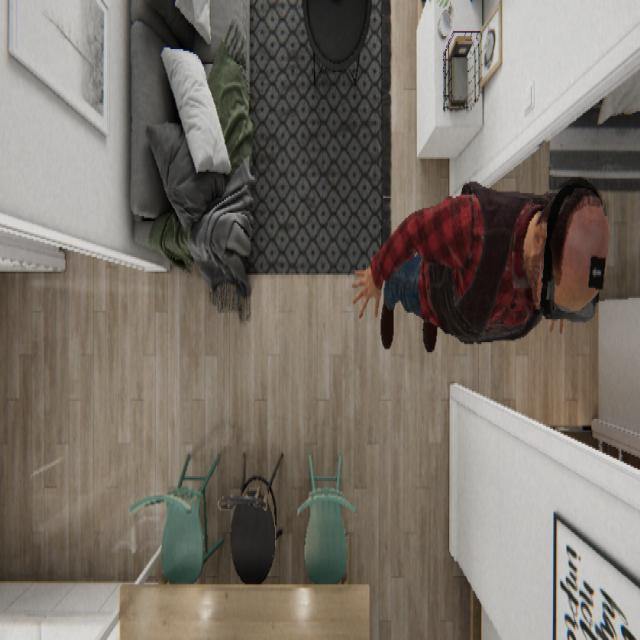Human: (350, 175, 610, 352)
UnityLogo: (587, 252, 606, 290)
